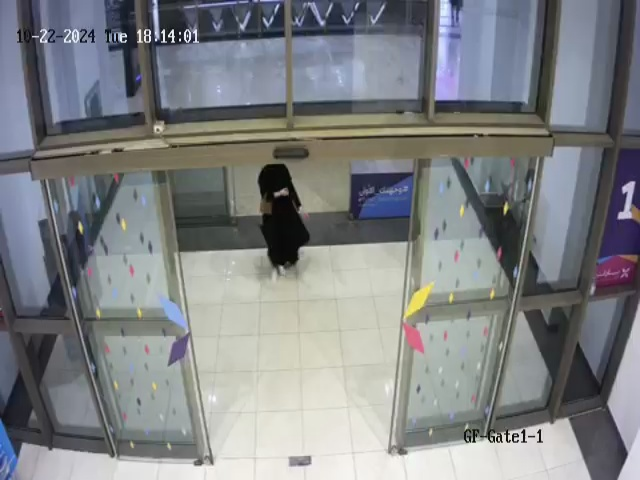female: (250, 159, 321, 286)
